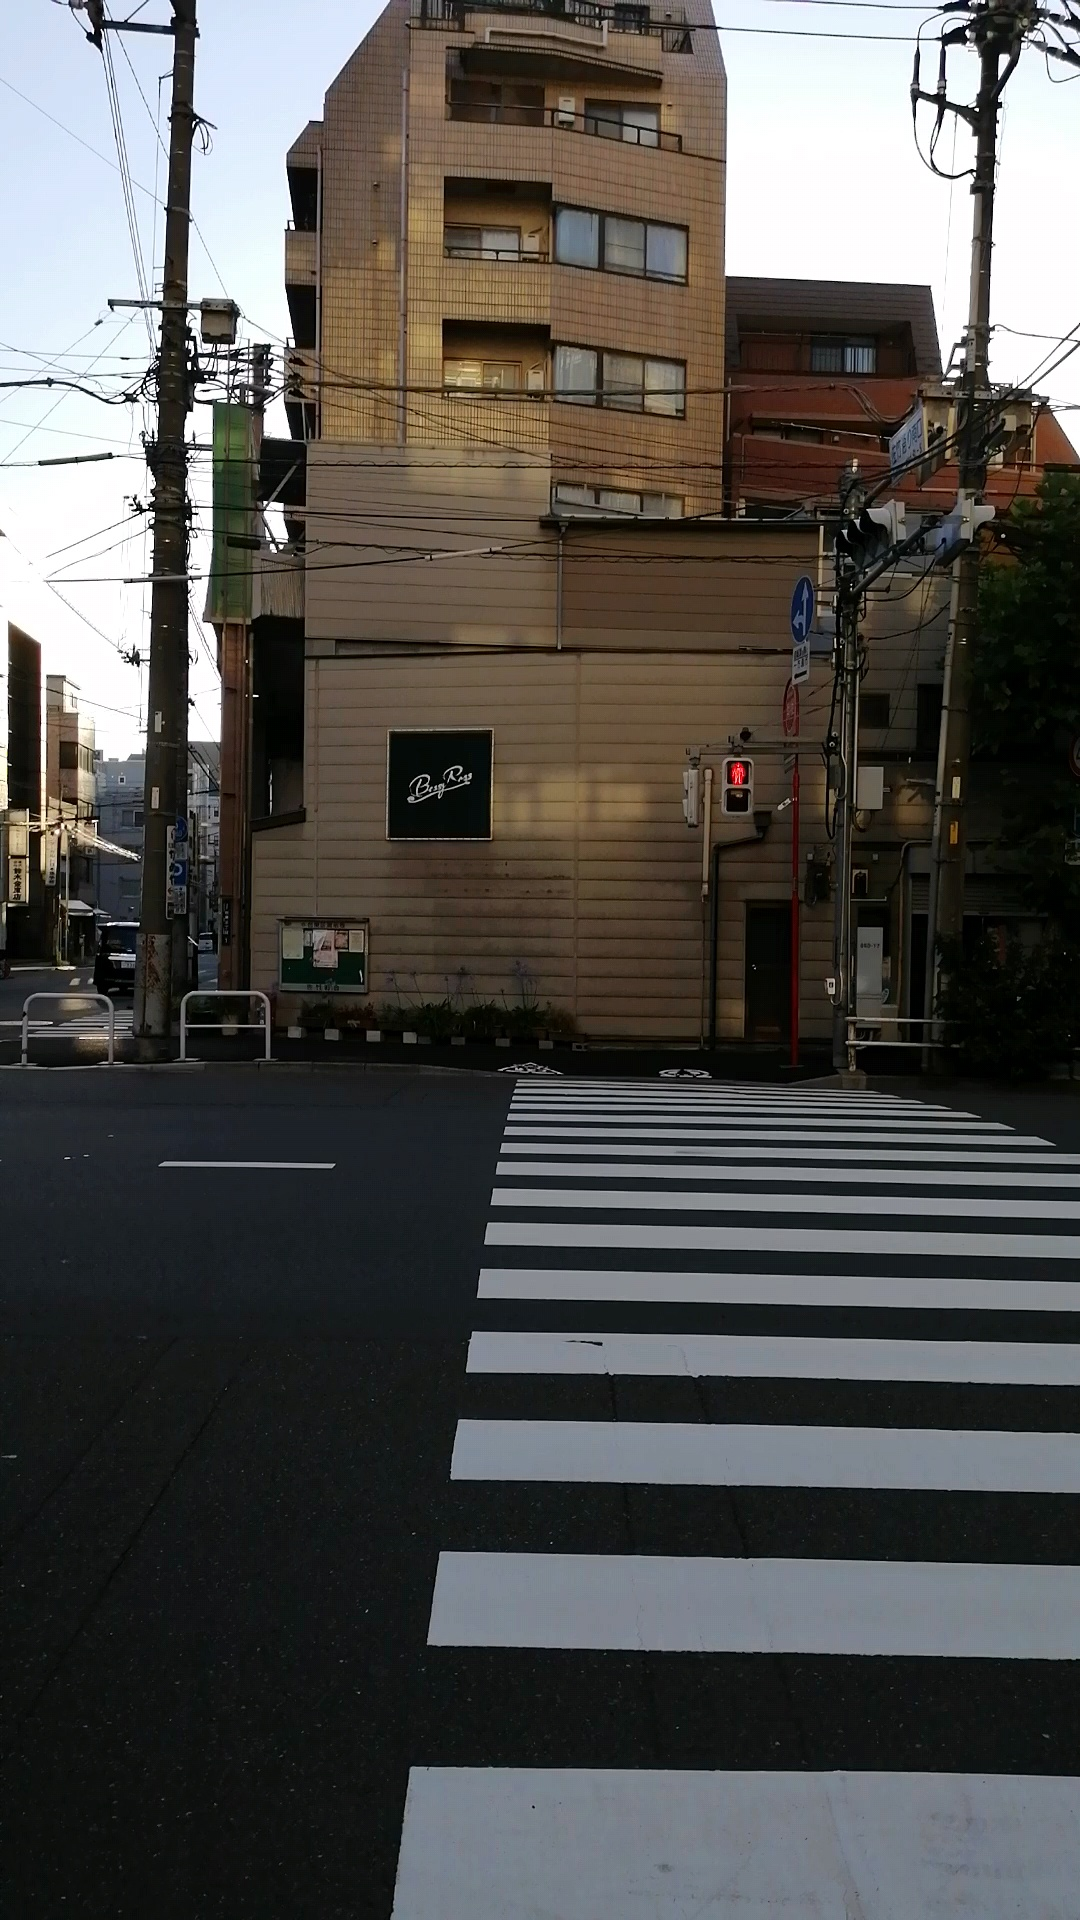red: (720, 756, 754, 818)
